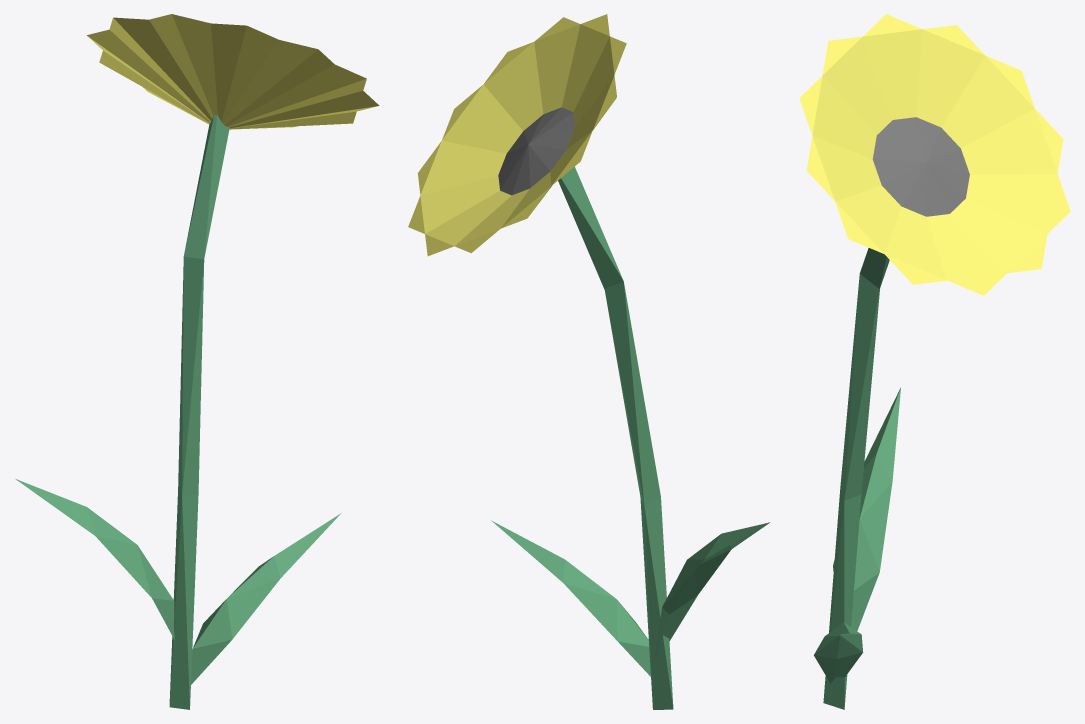
The model's file is Prop_Flower_Sunflower.glb.
3 renders of one model, left to right at view 1: azimuth 30°, elevation 25°; view 2: azimuth 150°, elevation 25°; view 3: azimuth 270°, elevation 25°, orthographic. The views are drawn at different scales.
Visible parts, largest first — view 1: object5, object3, object1, object4, object2, object6; view 2: object5, object3, object4, object1, object2, object6; view 3: object5, object2, object3, object4, object1, object6.
Part boxes in pixels (<box>): object5: <box>87,14,379,129</box>; object3: <box>178,256,204,495</box>; object1: <box>191,513,341,684</box>; object4: <box>169,491,198,709</box>; object2: <box>15,479,174,640</box>; object6: <box>183,115,229,259</box>; object5: <box>408,14,626,256</box>; object3: <box>604,281,660,505</box>; object4: <box>640,496,673,709</box>; object1: <box>491,520,650,676</box>; object2: <box>654,522,769,658</box>; object6: <box>558,166,623,289</box>; object5: <box>799,14,1070,295</box>; object2: <box>833,387,900,630</box>; object3: <box>840,274,879,500</box>; object4: <box>823,488,861,709</box>; object1: <box>814,622,863,683</box>; object6: <box>860,248,889,288</box>.
Size of the model in its own units: 0.4159 by 0.778 by 0.2738.
